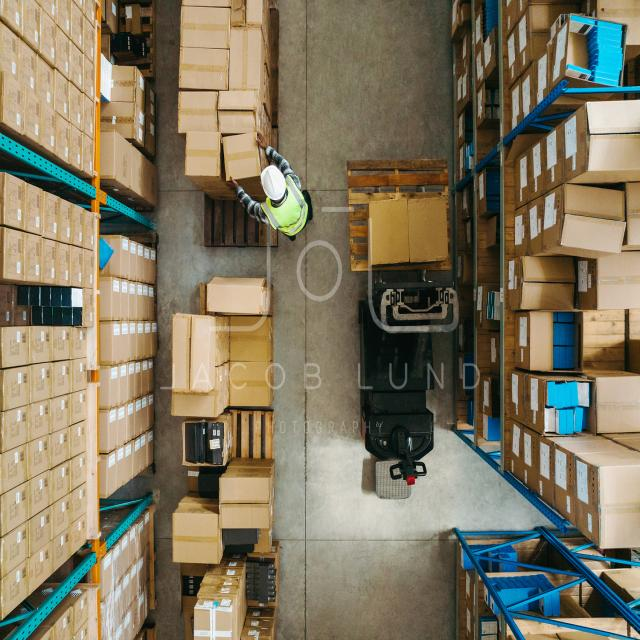box: (565, 188, 626, 257), (583, 100, 640, 164), (170, 313, 214, 395), (218, 475, 276, 533), (522, 260, 578, 312), (175, 514, 223, 565), (181, 3, 231, 48), (212, 280, 272, 317), (374, 200, 409, 260), (411, 202, 448, 258), (230, 322, 274, 366), (180, 48, 227, 88), (234, 32, 262, 92), (224, 138, 265, 178), (188, 129, 220, 178), (229, 372, 271, 409), (528, 316, 556, 370), (179, 92, 216, 127), (223, 95, 260, 130)
